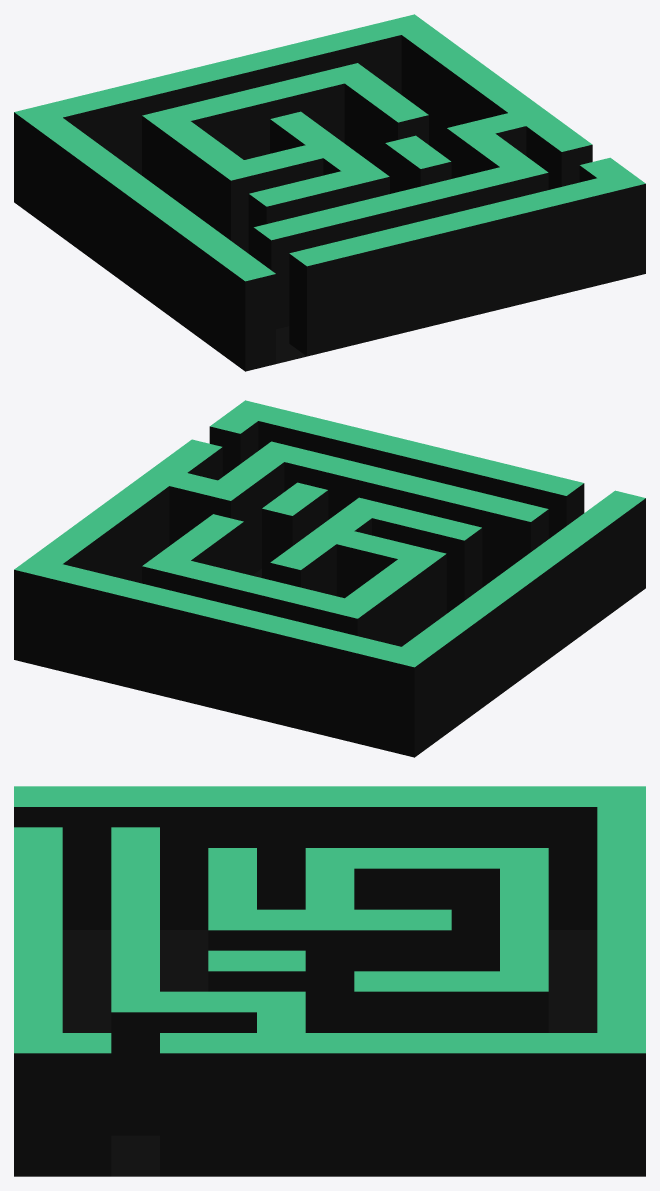
The model's file is Maze Level 2.fbx.
3 renders of one model, top to bottom at view 1: azimuth 30°, elevation 25°; view 2: azimuth 150°, elevation 25°; view 3: azimuth 270°, elevation 25°, orthographic. The views are drawn at different scales.
Visible parts, largest first — view 1: Plane; view 2: Plane; view 3: Plane.
Boxes of the visible parts, left/top/right/bottom form: Plane: left=14, top=14, right=645, bottom=371; Plane: left=14, top=400, right=645, bottom=757; Plane: left=14, top=786, right=645, bottom=1176.
Bounding box in the file's own units: 1395 × 300 × 1395.
